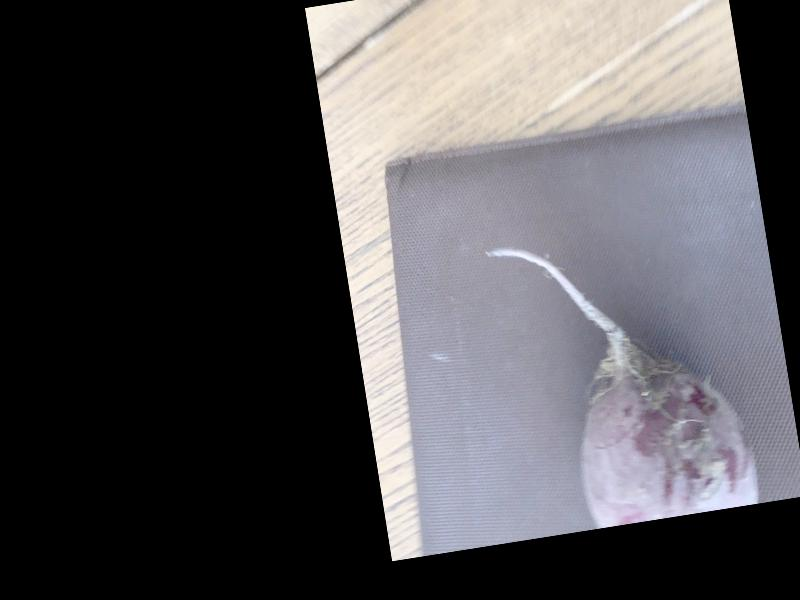Beet: (487, 214, 760, 536)
